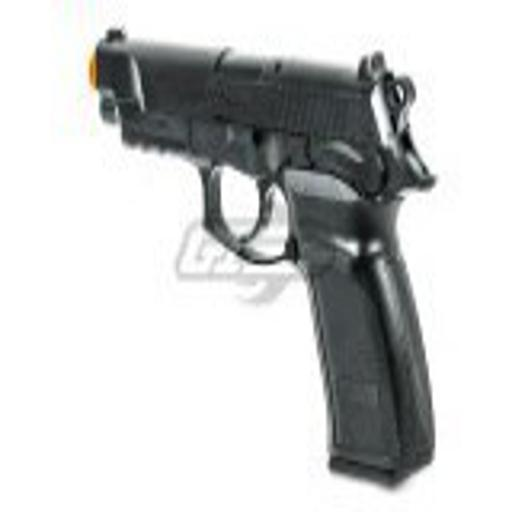Handgun: (85, 20, 437, 493)
